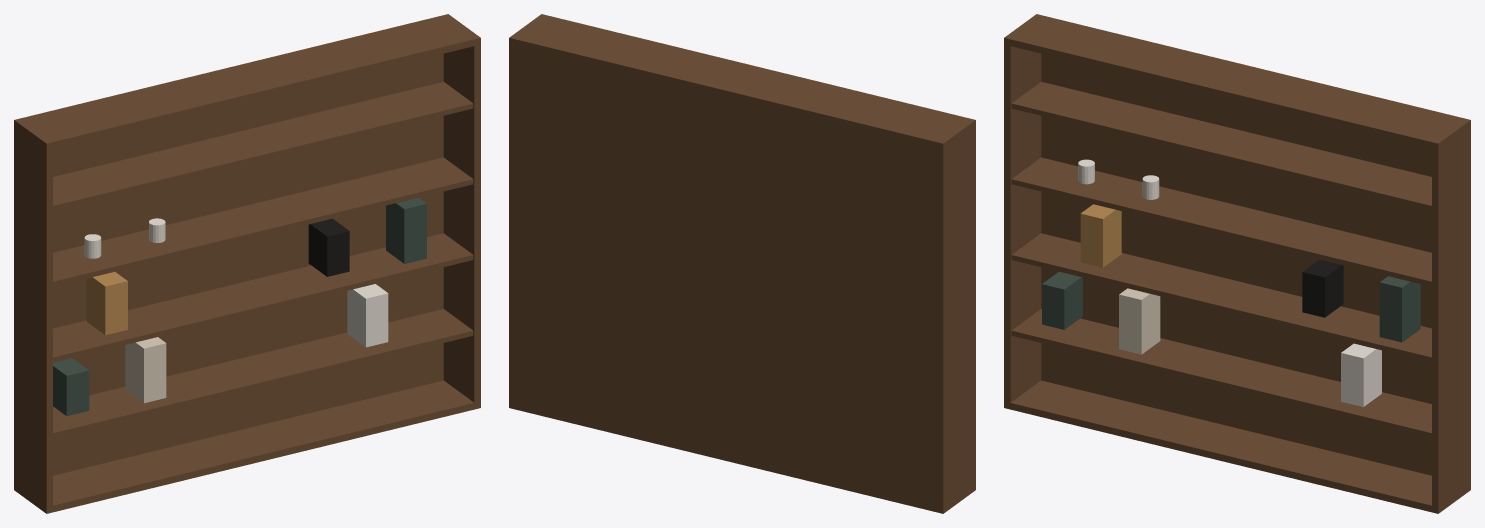
3 renders of one model, left to right at view 1: azimuth 30°, elevation 25°; view 2: azimuth 150°, elevation 25°; view 3: azimuth 330°, elevation 25°, orthographic.
Visible parts, largest first — view 1: bookshelf; view 2: bookshelf; view 3: bookshelf.
Boxes of the visible parts, box(x1,y1,x2,y2) form: bookshelf: box(14, 14, 480, 513); bookshelf: box(509, 14, 975, 513); bookshelf: box(1004, 14, 1470, 513).
Bounding box in the file's own units: 2.7 × 2.2 × 0.35.
